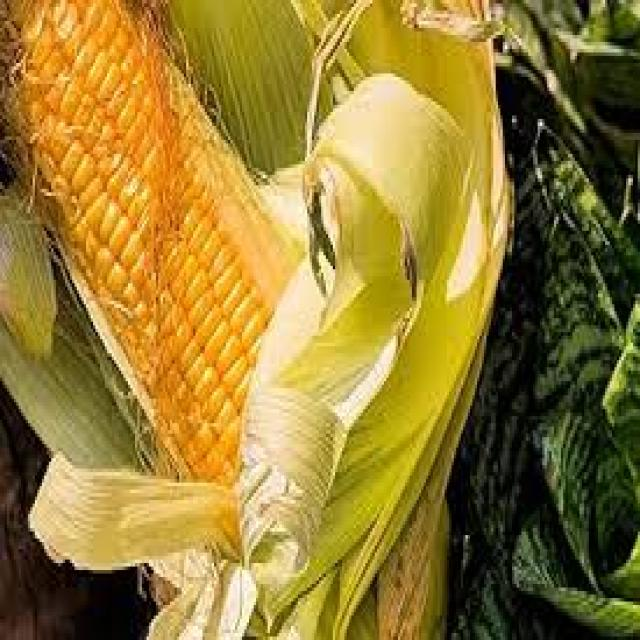discolored corn: (0, 0, 311, 520)
